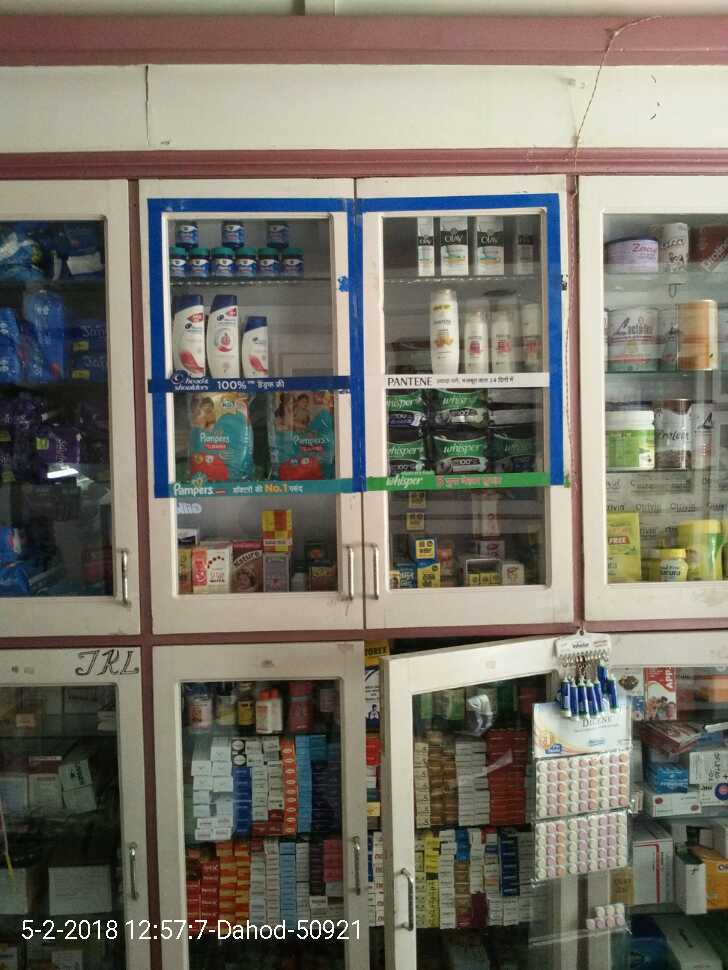beauty: (172, 293, 208, 385), (204, 294, 241, 381), (430, 288, 459, 380), (239, 309, 275, 376), (407, 212, 442, 280), (436, 215, 472, 280), (473, 213, 505, 275), (489, 306, 516, 372), (464, 310, 485, 374)
pharmacy: (181, 383, 254, 481), (267, 384, 335, 479), (426, 382, 487, 431), (428, 431, 490, 474), (489, 423, 531, 472), (379, 387, 425, 430), (257, 215, 297, 241), (215, 213, 246, 246), (162, 245, 190, 279), (190, 246, 214, 280), (211, 247, 240, 274), (255, 247, 278, 277), (280, 249, 303, 276), (235, 255, 261, 278), (173, 221, 200, 238)
